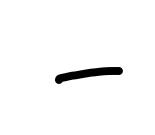minus: (55, 67, 123, 84)
